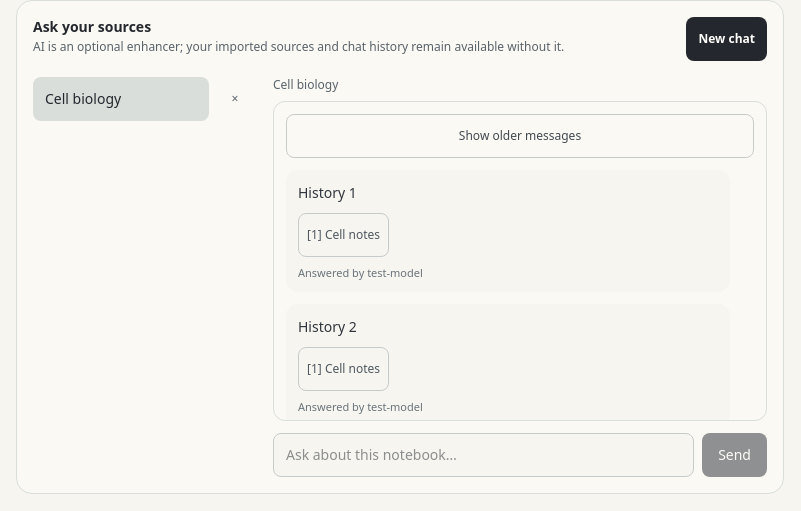
ChatPanel sessions › pages long histories behind a show-older button
Expected: the text "History 0" is not shown
Click the button "Show older messages": (520, 136) [286, 114, 754, 158]
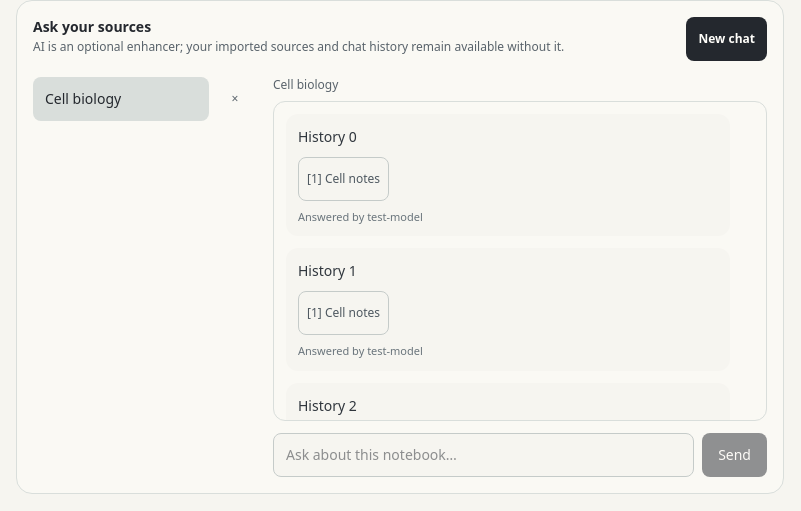
Result: the text "History 0" is shown at [298, 127, 357, 146]
Result: the button "Show older messages" is gone
